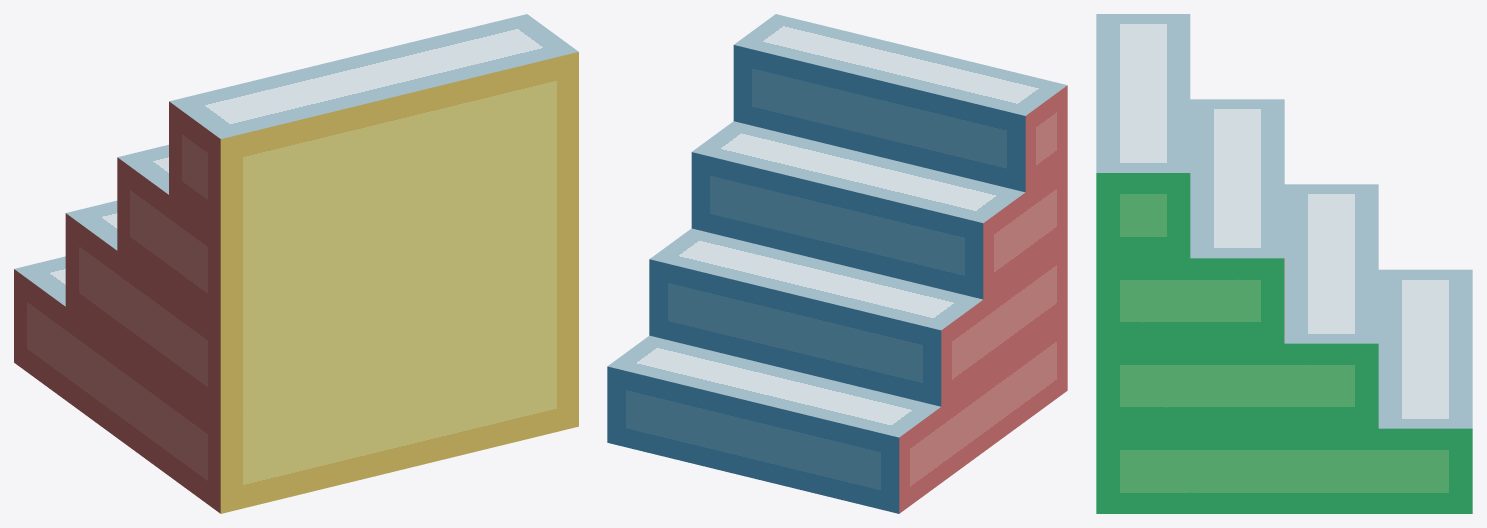
File: withanimationmodel.gltf
3 views of the same model, side by side, from view 1: azimuth 30°, elevation 25°; view 2: azimuth 150°, elevation 25°; view 3: azimuth 270°, elevation 25° (orthographic). The views are drawn at different scales.
Visible parts, largest first — view 1: step0; view 2: step0; view 3: step0.
Part boxes in pixels (left/top/right/bottom): step0: left=14, top=14, right=578, bottom=513; step0: left=607, top=14, right=1067, bottom=513; step0: left=1096, top=14, right=1472, bottom=513.
Bounding box in the file's own units: 1 × 1 × 1.
1 material, 1 textured.
